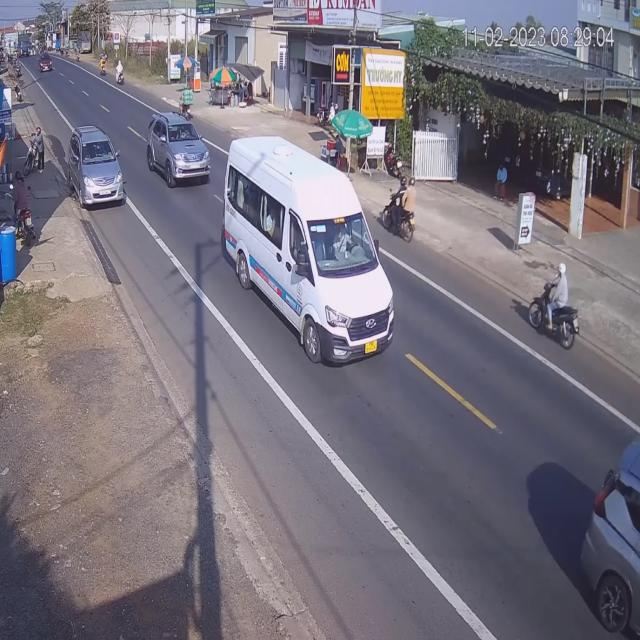bus: (222, 133, 394, 368)
car: (577, 437, 640, 639), (150, 111, 214, 189), (68, 125, 125, 208), (40, 54, 53, 74)
motorbike: (528, 266, 582, 354), (379, 186, 413, 246)
